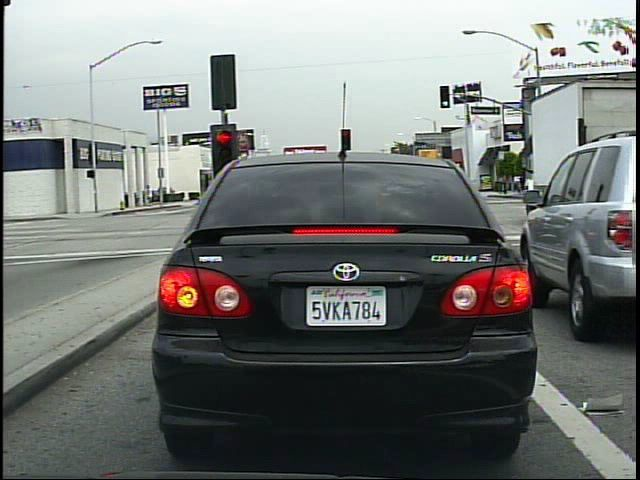person: (519, 168, 529, 200), (147, 181, 156, 209)
